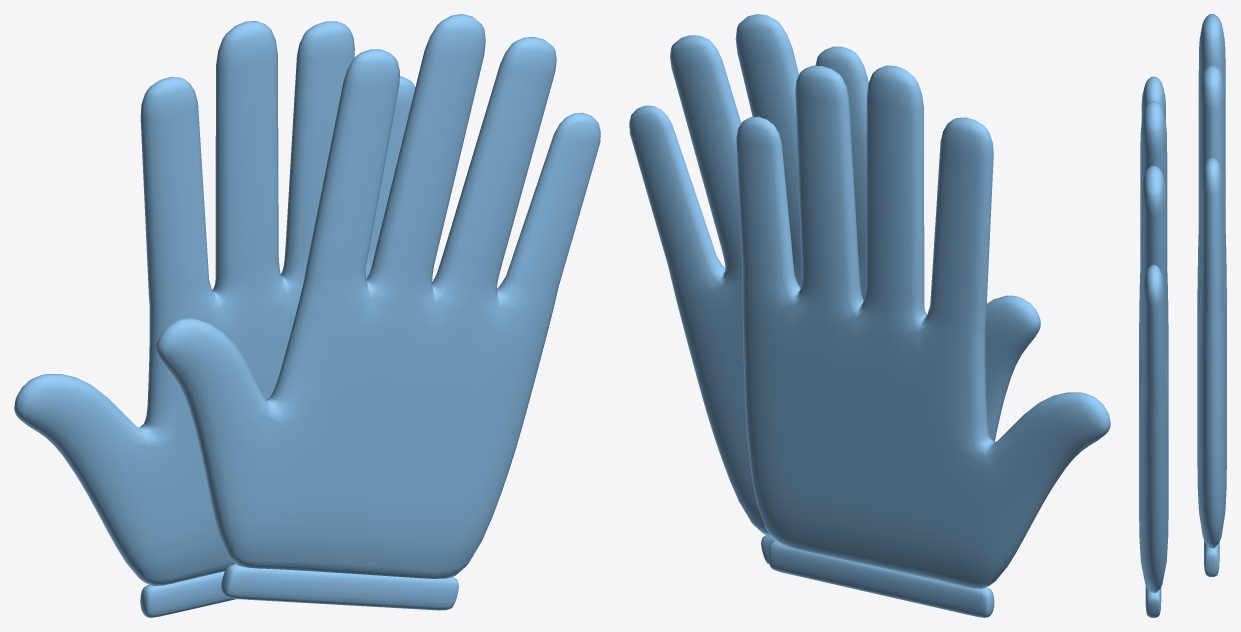
File: gloves.glb
3 renders of one model, left to right at view 1: azimuth 30°, elevation 25°; view 2: azimuth 150°, elevation 25°; view 3: azimuth 270°, elevation 25°, orthographic. The views are drawn at different scales.
Visible parts, largest first — view 1: Cube.6107; view 2: Cube.6107; view 3: Cube.6107.
Part boxes in pixels (x1,y1,x2,y2): Cube.6107: [14, 14, 600, 617]; Cube.6107: [629, 14, 1110, 617]; Cube.6107: [1139, 14, 1226, 617].
Size of the model in its own units: 1.97 by 2.06 by 0.3102.
Materials: 1 (1 with a texture image).
